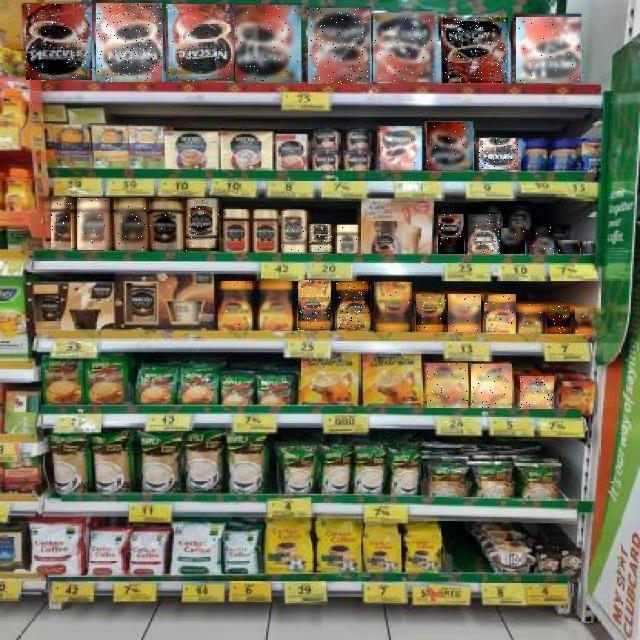Coffee: (166, 4, 234, 81), (96, 3, 162, 82), (26, 5, 92, 81), (236, 5, 300, 83), (308, 8, 370, 84), (374, 13, 438, 82), (443, 17, 508, 83), (516, 17, 581, 83), (427, 122, 473, 170), (374, 282, 412, 332), (381, 127, 423, 171), (427, 363, 468, 408), (471, 364, 512, 408), (78, 198, 112, 250), (186, 198, 219, 251), (150, 199, 182, 252), (298, 280, 331, 331), (219, 281, 253, 330), (336, 282, 370, 330), (260, 281, 292, 330), (117, 199, 147, 251), (468, 214, 500, 254), (484, 294, 516, 334), (448, 294, 481, 332), (479, 139, 518, 171), (416, 294, 447, 332), (520, 376, 554, 409), (51, 196, 71, 250), (281, 211, 307, 252), (438, 214, 464, 254), (309, 224, 333, 253), (531, 227, 555, 255), (519, 305, 543, 333), (547, 306, 570, 334), (501, 229, 525, 255), (576, 309, 600, 335), (337, 225, 358, 253), (558, 240, 580, 254), (582, 241, 598, 254)
